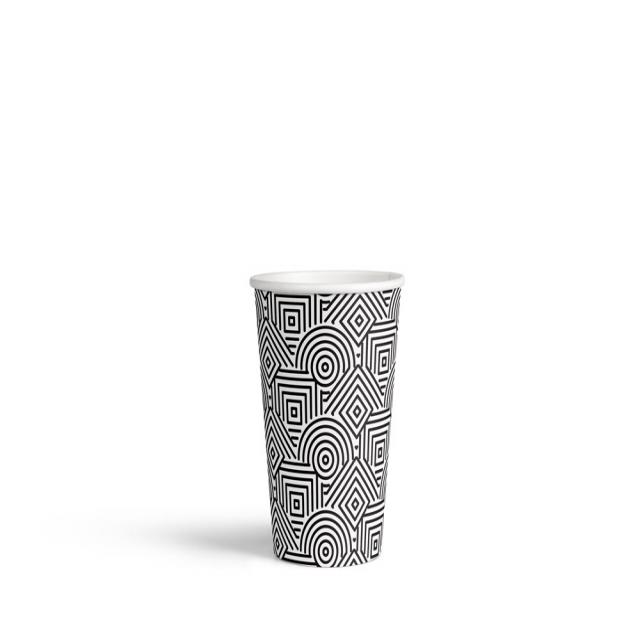karton-bardak: (240, 256, 417, 573)
